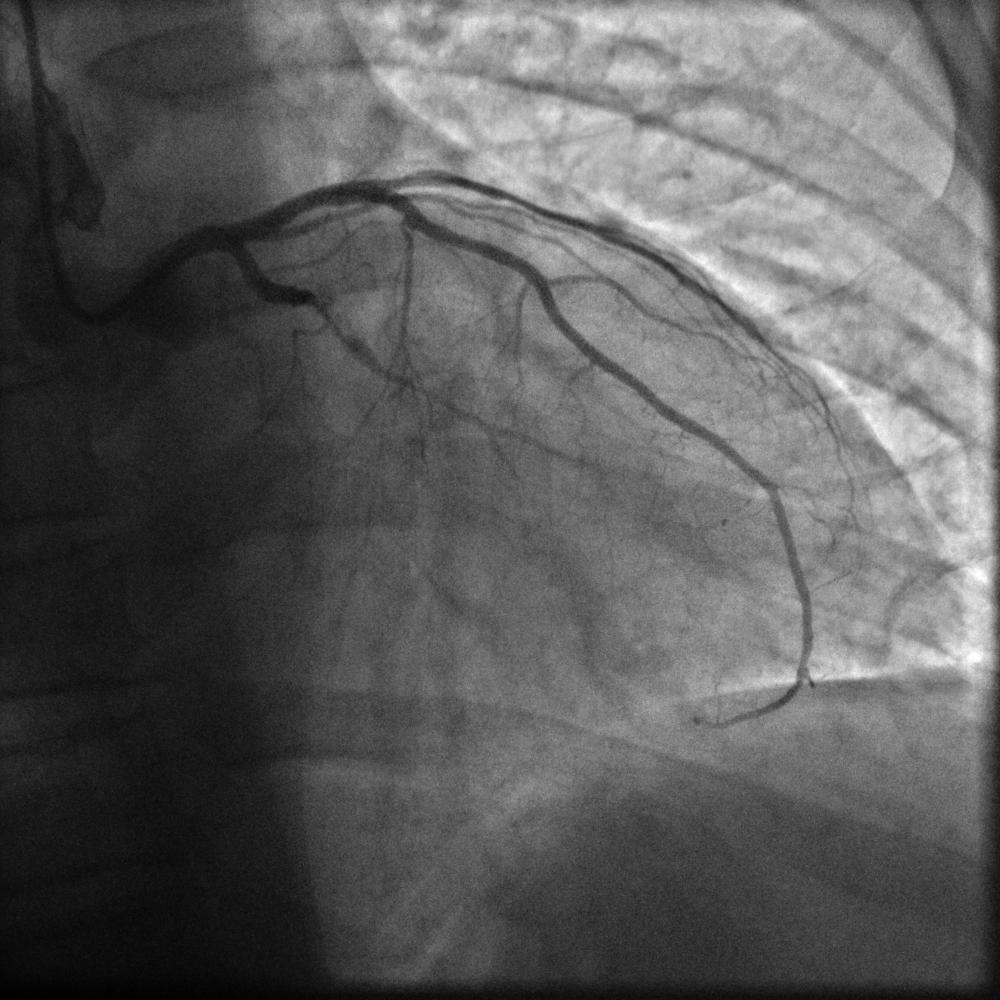Stenosis: (303, 287, 357, 346)
